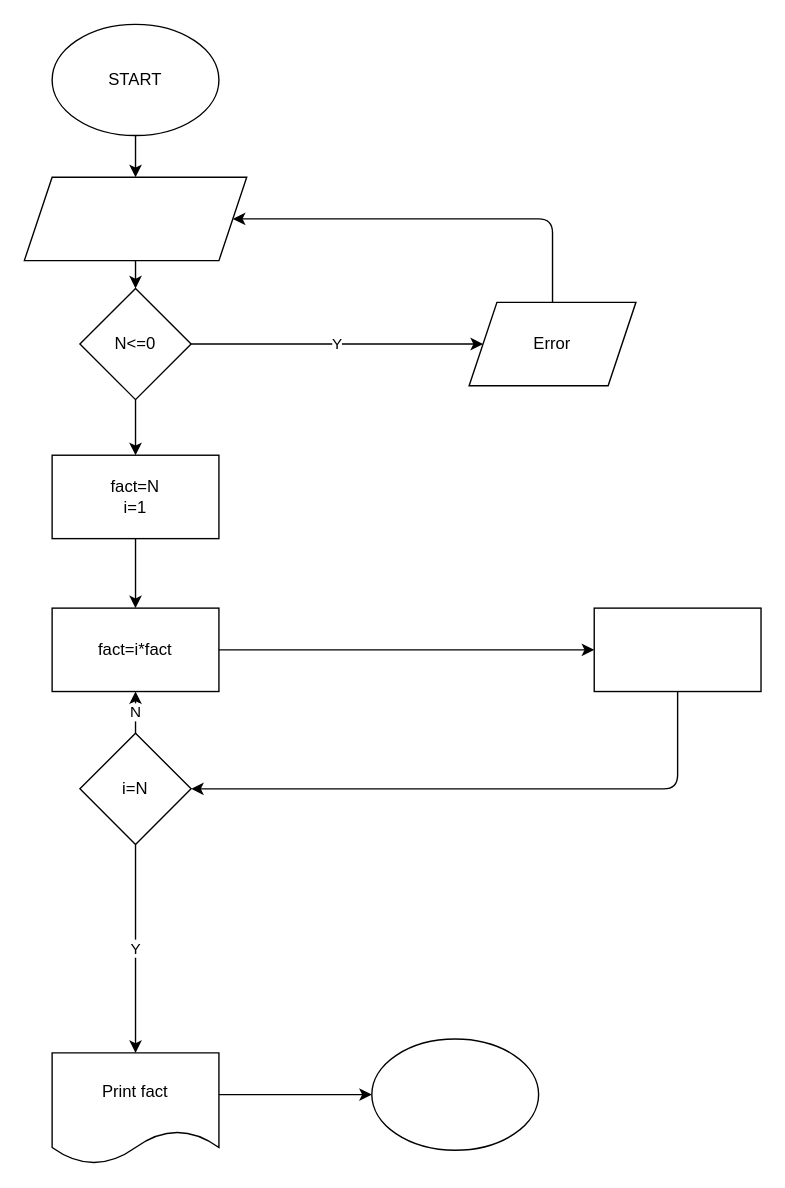
Some shapes in this 785 by 1188 pixel diagram are drawn without their labels. Here are the shapes that lost their labels. From the top down, the centre of each, then its label:
At point 135,218: "Enter your number, N".
At point 677,649: "i=i+1".
At point 454,1094: "END".
